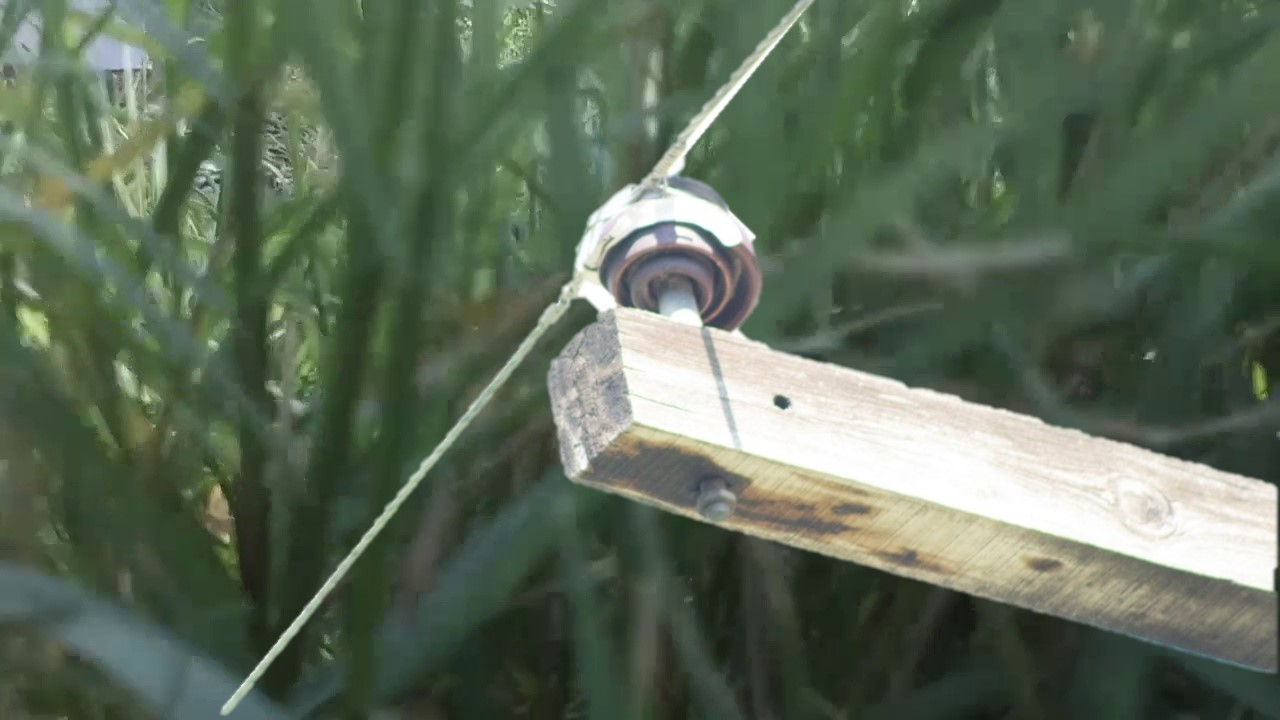defect_pin: (563, 160, 766, 331)
